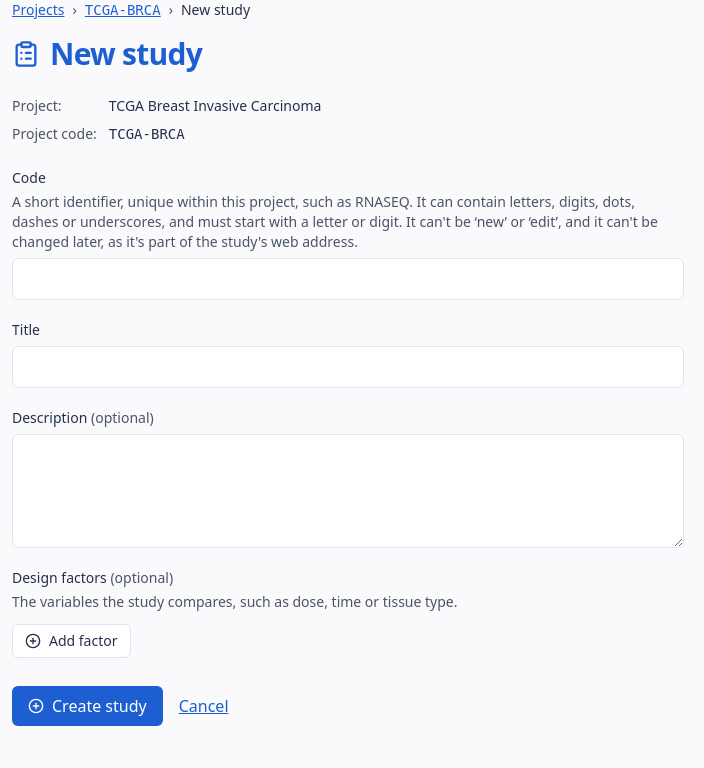
NewStudyPage › shows an error when the API fails
Type "RNASEQ" into the field labelled "Code" at (348,279), box [12,258,684,300]
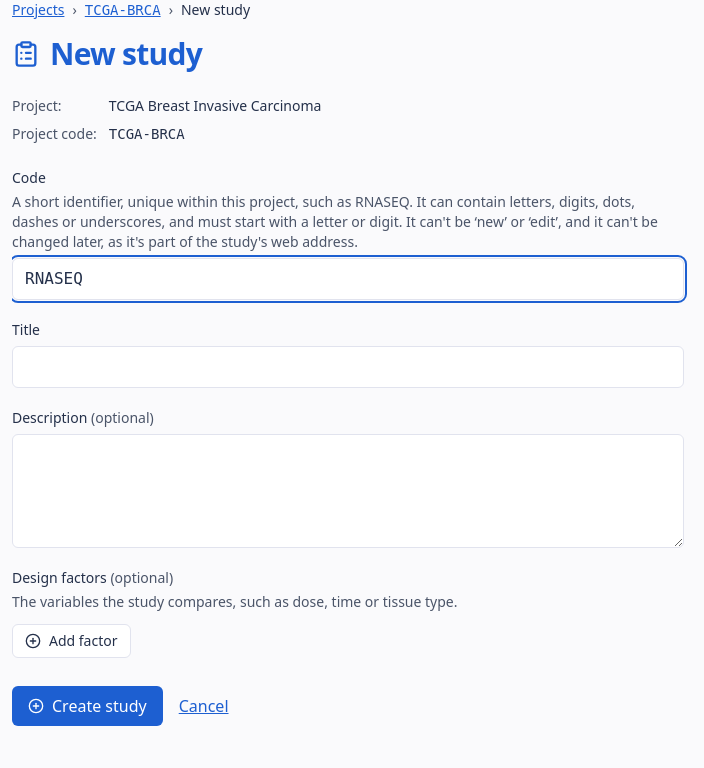
Type "RNA-seq of primary tumours" into the field labelled "Title" at (348,367), box [12,346,684,388]
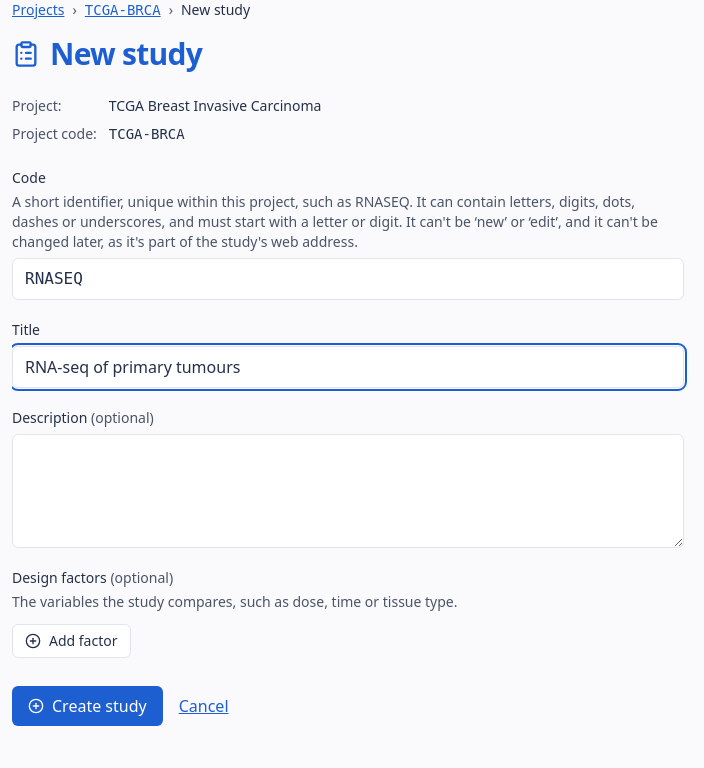
Click the button "Create study" at (87,706), box [12,686,163,726]
(page scrolled)
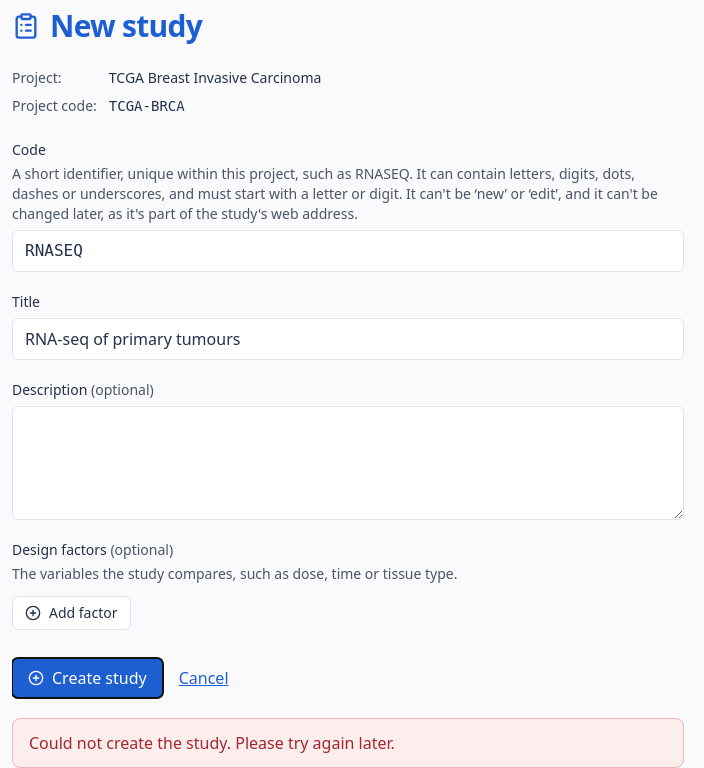
Check: the message shows "Could not create the study.", box [29,732,395,754]
